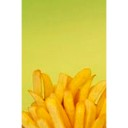frenchfries: (22, 70, 105, 128)
